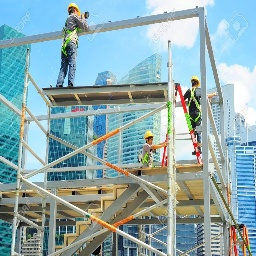person: (57, 5, 89, 89), (183, 77, 206, 152), (142, 129, 158, 168)
